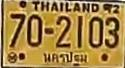0: (27, 13, 42, 46), (88, 16, 103, 47)
1: (77, 15, 82, 47)
2: (56, 15, 70, 47)
3: (104, 16, 119, 47)
7: (9, 13, 25, 47)
NPT: (41, 50, 88, 66)
